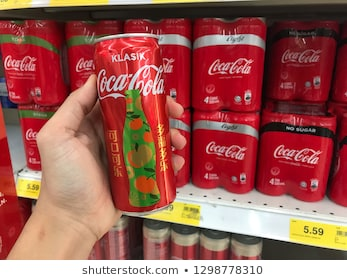cocacola_green_apples: (94, 31, 179, 214)
